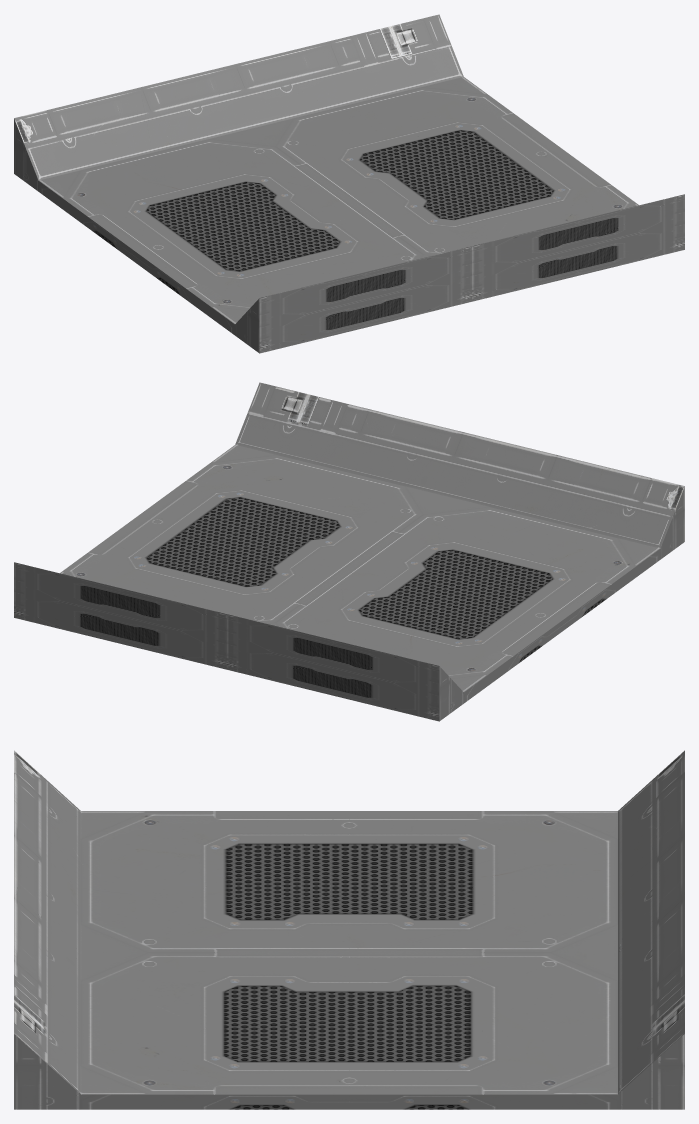
The model's file is SM_CeilingS05.fbx.
The picture shows the model from 3 angles, top to bottom: view 1: azimuth 30°, elevation 25°; view 2: azimuth 150°, elevation 25°; view 3: azimuth 270°, elevation 25°; orthographic projection. The views are drawn at different scales.
Parts seen in each view (by area): view 1: SM_CeilingS05_LOD0; view 2: SM_CeilingS05_LOD0; view 3: SM_CeilingS05_LOD0.
Boxes of the visible parts, <box> form: SM_CeilingS05_LOD0: <box>14,14,684,353</box>; SM_CeilingS05_LOD0: <box>14,382,684,721</box>; SM_CeilingS05_LOD0: <box>14,750,684,1109</box>.
Bounding box in the file's own units: 400 × 400 × 50.
1 material, 1 textured.
